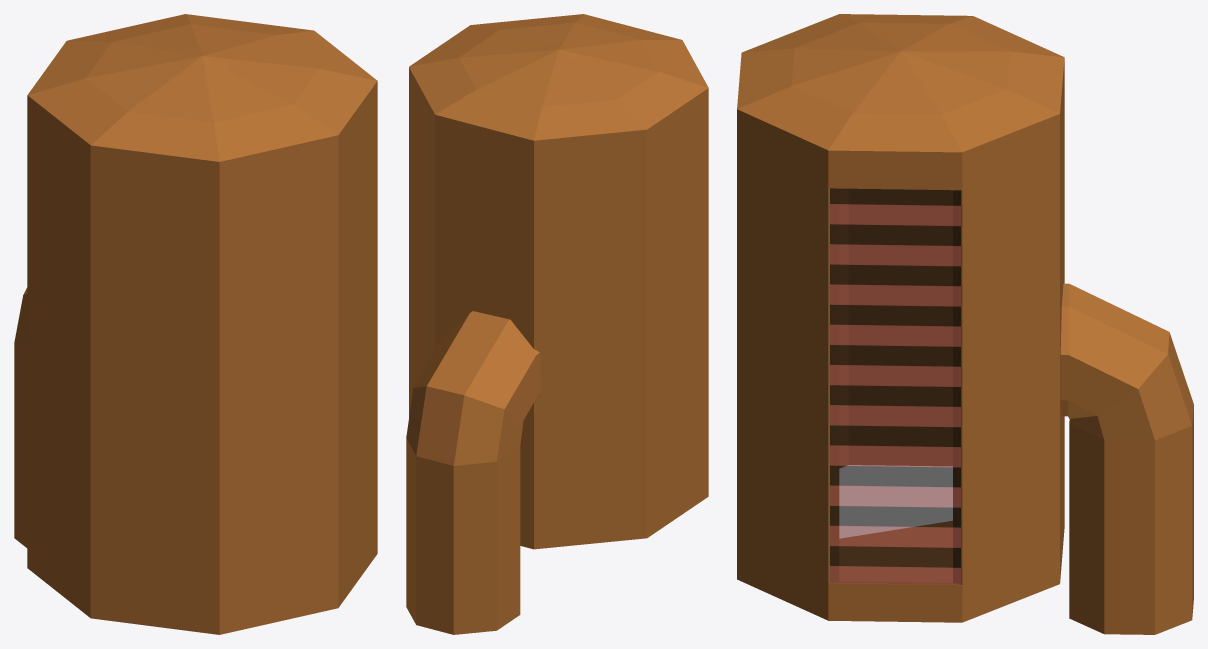
File: VAT00.glb
3 renders of one model, left to right at view 1: azimuth 30°, elevation 25°; view 2: azimuth 150°, elevation 25°; view 3: azimuth 270°, elevation 25°, orthographic. The views are drawn at different scales.
Parts seen in each view (by area): view 1: Cylinder, Cylinder.001; view 2: Cylinder, Cylinder.001; view 3: Cylinder, glass, Cylinder.001, liquidHeight.
Part boxes in pixels (x1,y1,x2,y2): Cylinder: (27,14,377,634); Cylinder.001: (14,287,27,547); Cylinder: (409,14,708,549); Cylinder.001: (406,311,541,634); Cylinder: (737,14,1064,622); glass: (830,188,960,584); Cylinder.001: (1060,283,1193,634); liquidHeight: (839,465,952,538).
Size of the model in its own units: 1.82 by 3.44 by 2.54.
4 materials, 1 textured.
